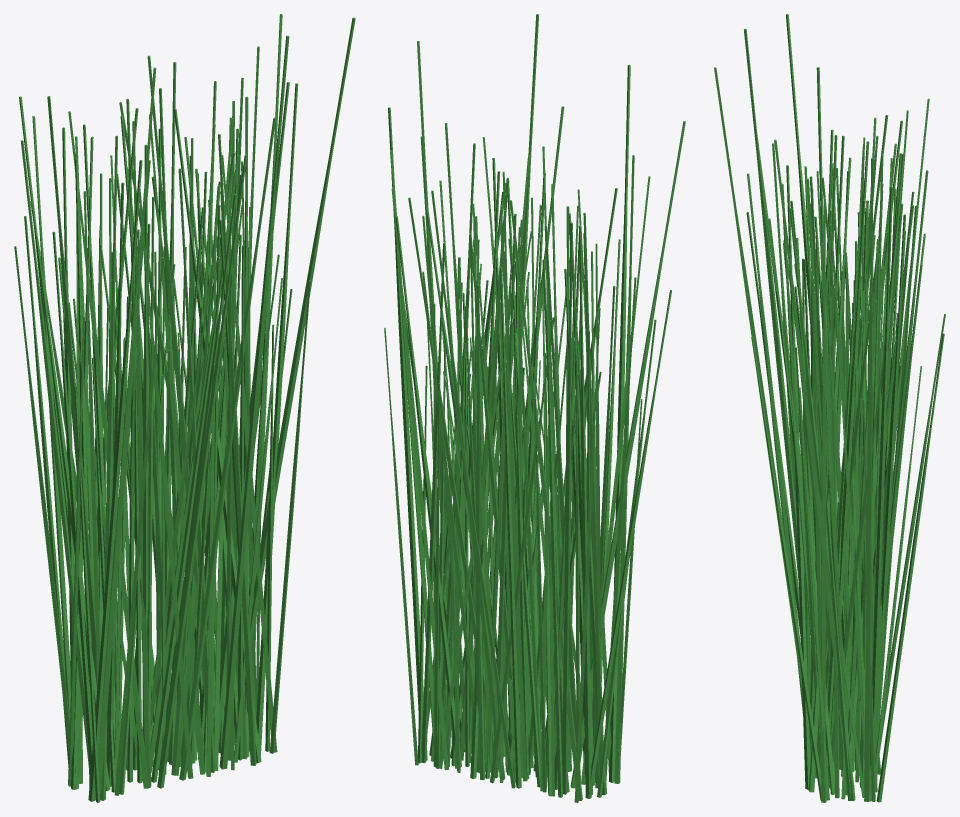
The model's file is onion-grass.fbx.
3 renders of one model, left to right at view 1: azimuth 30°, elevation 25°; view 2: azimuth 150°, elevation 25°; view 3: azimuth 270°, elevation 25°, orthographic. The views are drawn at different scales.
Visible parts, largest first — view 1: Cube.142; view 2: Cube.142; view 3: Cube.142.
Part boxes in pixels (bbox=[...]): Cube.142: bbox=[14, 14, 355, 802]; Cube.142: bbox=[384, 14, 685, 802]; Cube.142: bbox=[714, 14, 945, 802].
Size of the model in its own units: 1285 by 3046 by 896.
